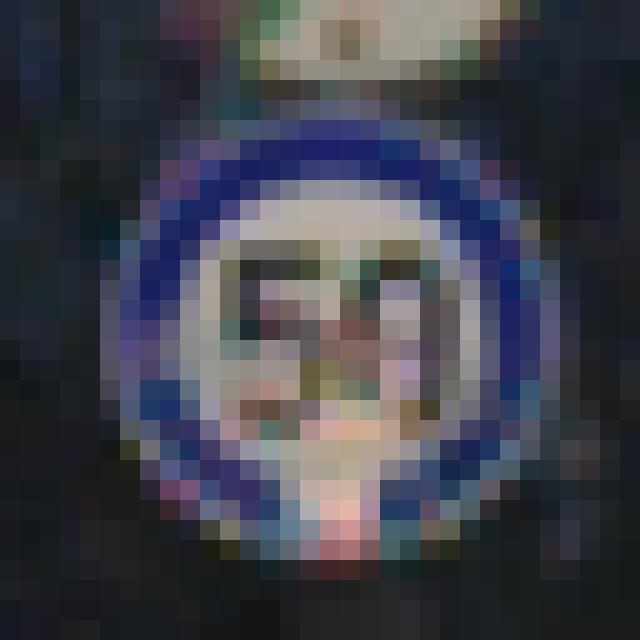SPEED LIMIT 50: (148, 134, 524, 520)
